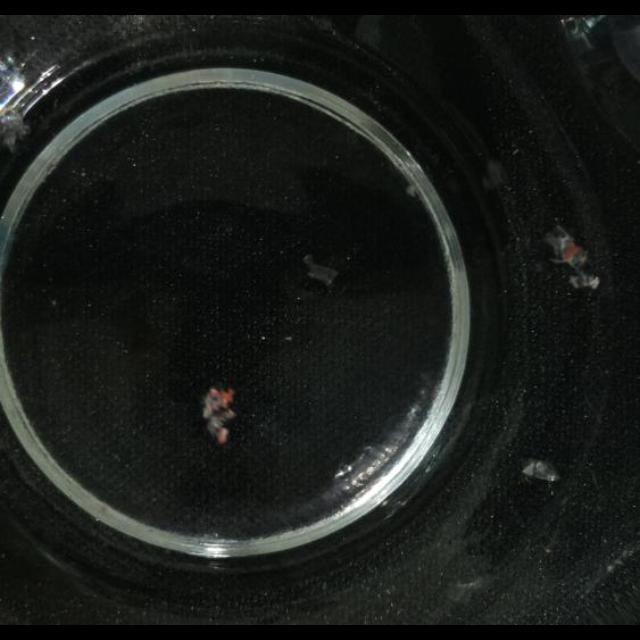Fibre: (302, 254, 338, 288), (522, 459, 560, 483)
Fragment: (546, 225, 598, 289), (200, 384, 236, 444)
